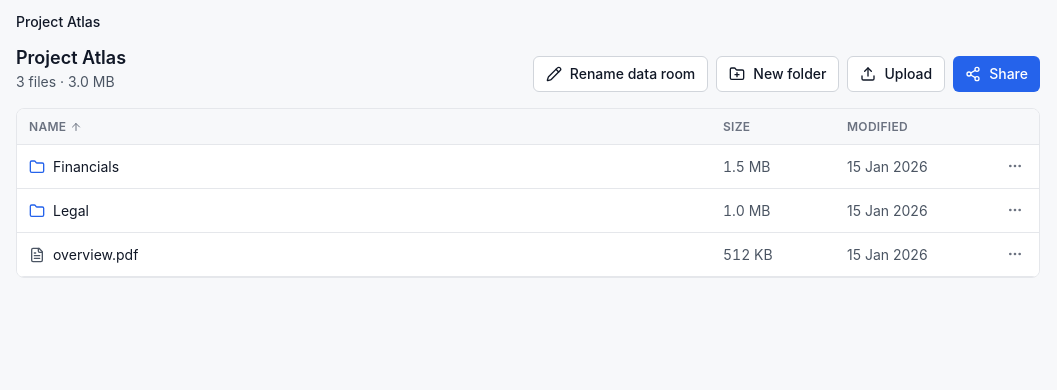
inline rename › renames optimistically and persists
Expected: the button "Legal" is shown, top-left (29, 200), bottom-right (89, 220)
Click the button named "Actions for Legal": (1015, 210) top-left (1003, 198), bottom-right (1027, 222)
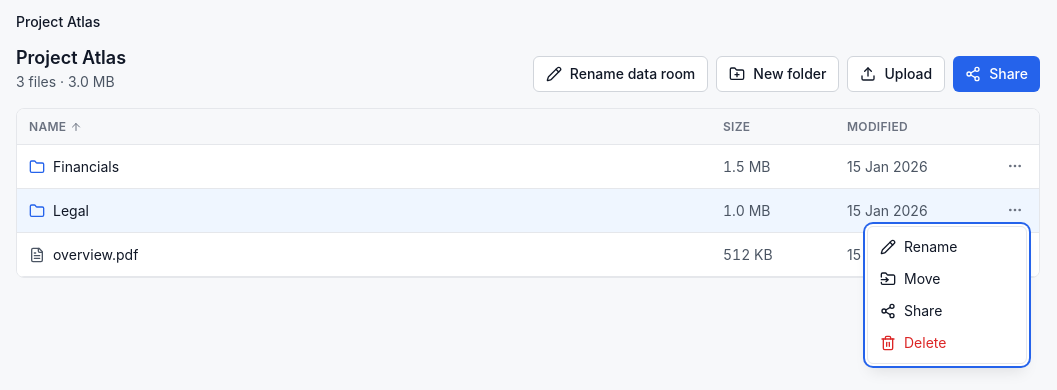
Click the menu item "Rename": (919, 246) top-left (880, 238), bottom-right (958, 255)
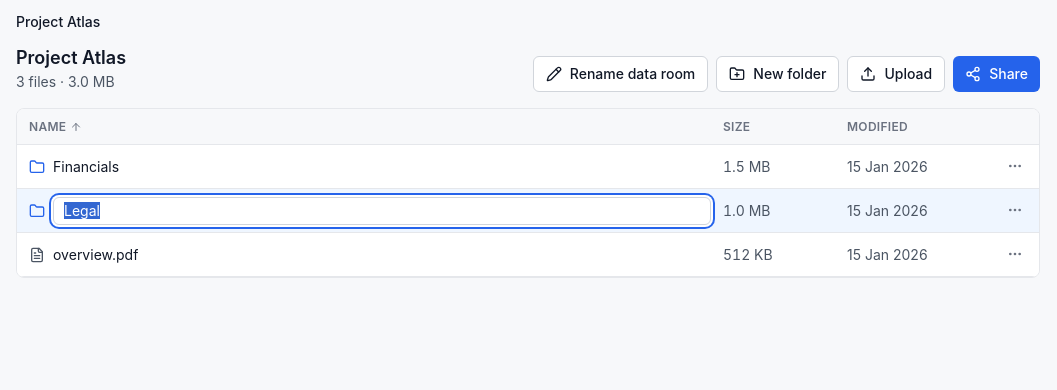
Replace the text in the field named "Rename Legal" with "Contracts": (382, 210) top-left (53, 196), bottom-right (711, 224)
Then press Enter
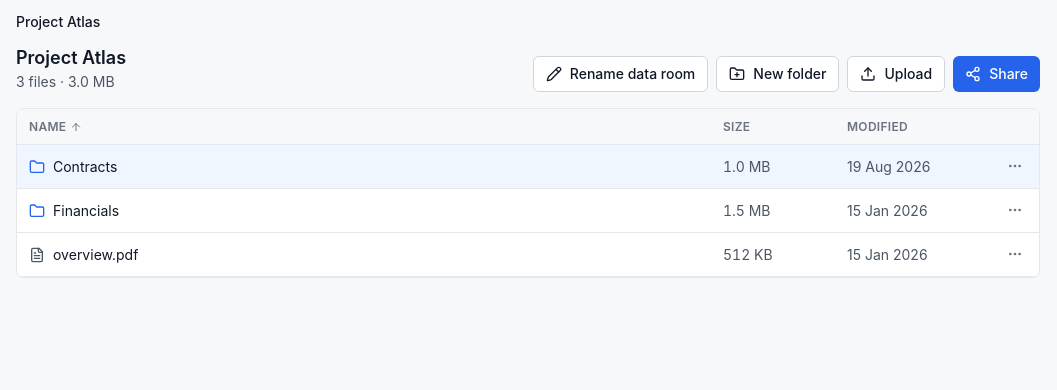
Expected: the button "Contracts" is shown, top-left (29, 156), bottom-right (117, 176)
Expected: the text "Contracts" is shown, top-left (53, 156), bottom-right (117, 176)
